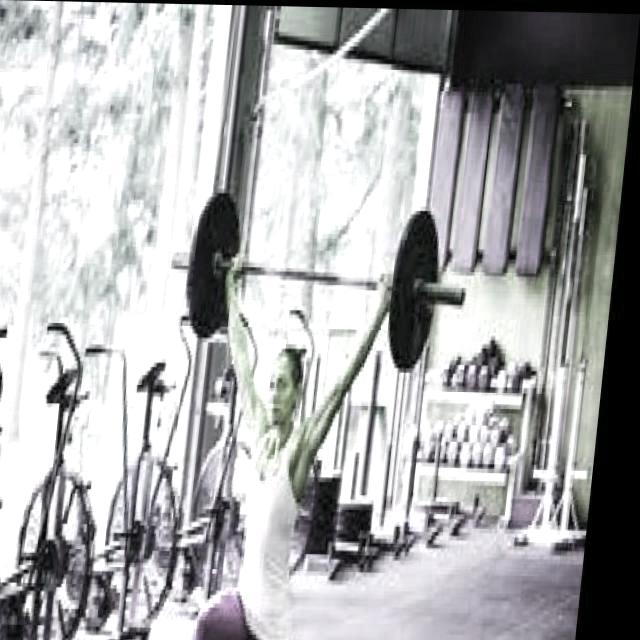barbell: (389, 205, 485, 375)
